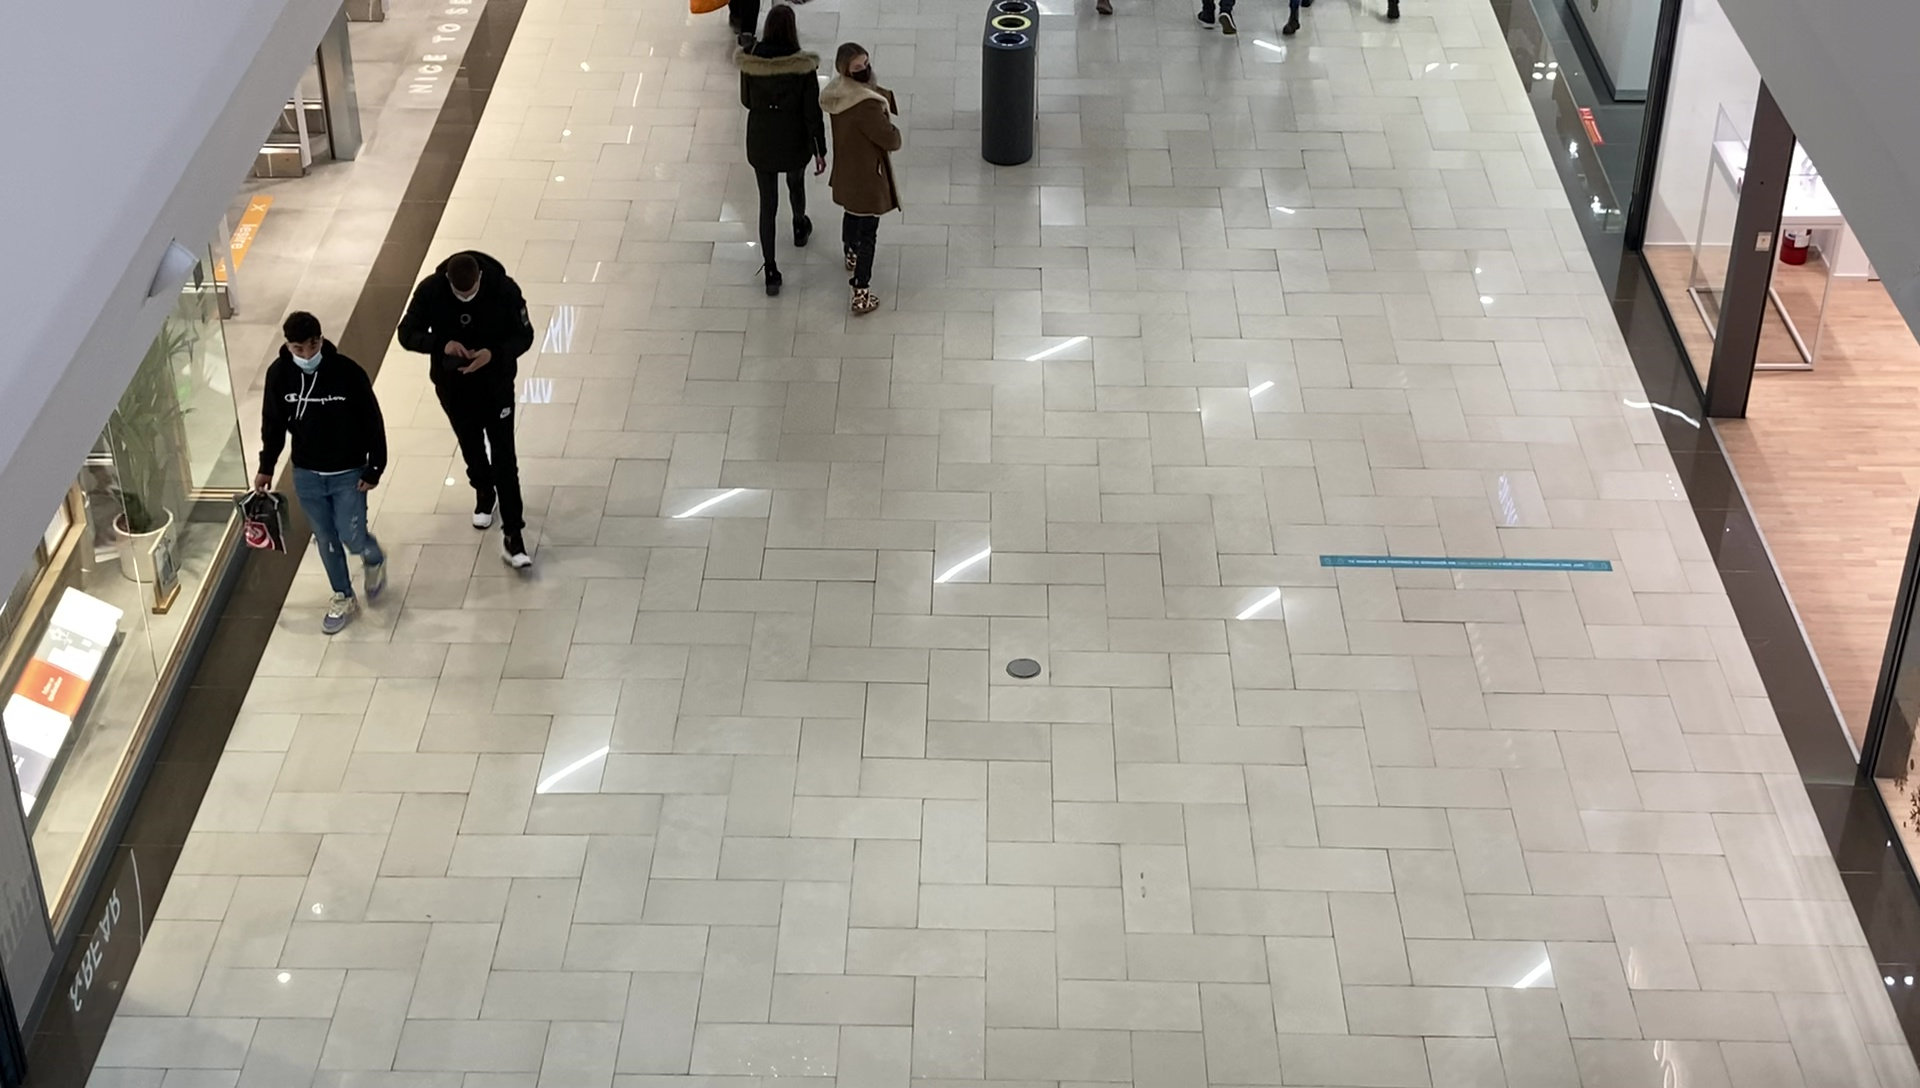person: (253, 311, 390, 637), (400, 250, 538, 572), (739, 6, 828, 295), (821, 42, 905, 317)
